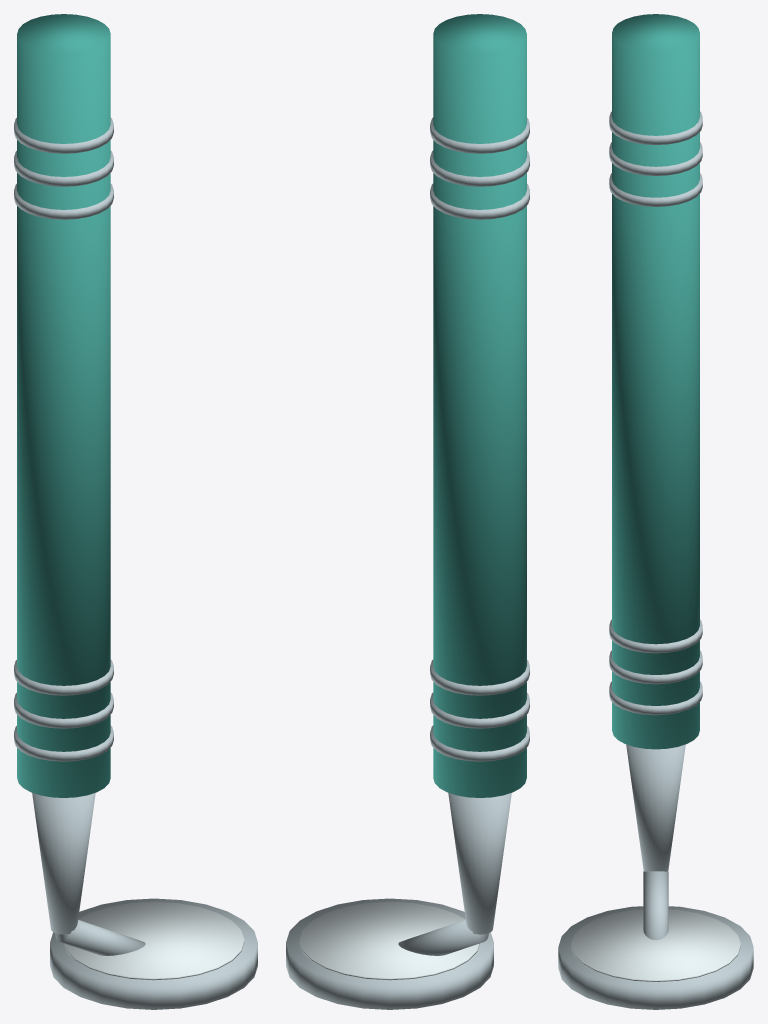
Rendered from mirror.glb.
3 views of the same model, side by side, from view 1: azimuth 30°, elevation 25°; view 2: azimuth 150°, elevation 25°; view 3: azimuth 270°, elevation 25° (orthographic). The views are drawn at different scales.
Visible parts, largest first — view 1: Grip, Reflective face, Mirror rim, Tapered neck, Angled tip, Grip ring.004, Grip ring.002, Grip ring.003, Grip ring.005, Grip ring.001, Grip ring; view 2: Grip, Reflective face, Mirror rim, Tapered neck, Angled tip, Grip ring.004, Grip ring.002, Grip ring.003, Grip ring.005, Grip ring.001, Grip ring; view 3: Grip, Reflective face, Mirror rim, Tapered neck, Angled tip, Grip ring, Grip ring.005, Grip ring.001, Grip ring.002, Grip ring.004, Grip ring.003.
Part boxes in pixels (<box>): Grip: <box>17,14,110,797</box>; Reflective face: <box>64,902,244,980</box>; Mirror rim: <box>50,898,257,1009</box>; Tapered neck: <box>32,793,95,934</box>; Angled tip: <box>55,920,145,955</box>; Grip ring.004: <box>14,150,113,186</box>; Grip ring.002: <box>14,659,113,695</box>; Grip ring.003: <box>14,183,113,219</box>; Grip ring.005: <box>14,117,113,153</box>; Grip ring.001: <box>14,692,113,728</box>; Grip ring: <box>14,725,113,761</box>; Grip: <box>433,14,526,797</box>; Reflective face: <box>299,902,479,980</box>; Mirror rim: <box>286,898,493,1009</box>; Tapered neck: <box>448,793,511,934</box>; Angled tip: <box>398,920,488,955</box>; Grip ring.004: <box>430,150,529,186</box>; Grip ring.002: <box>430,659,529,695</box>; Grip ring.003: <box>430,183,529,219</box>; Grip ring.005: <box>430,117,529,153</box>; Grip ring.001: <box>430,692,529,728</box>; Grip ring: <box>430,725,529,761</box>; Grip: <box>612,14,699,749</box>; Reflective face: <box>571,909,740,981</box>; Mirror rim: <box>558,906,753,1009</box>; Tapered neck: <box>626,744,685,871</box>; Angled tip: <box>643,871,668,940</box>; Grip ring: <box>609,681,702,715</box>; Grip ring.005: <box>609,111,702,144</box>; Grip ring.001: <box>609,650,702,684</box>; Grip ring.002: <box>609,619,702,653</box>; Grip ring.004: <box>609,142,702,175</box>; Grip ring.003: <box>609,173,702,206</box>.
Bounding box in the file's own units: 0.496 × 2.03 × 0.4.
